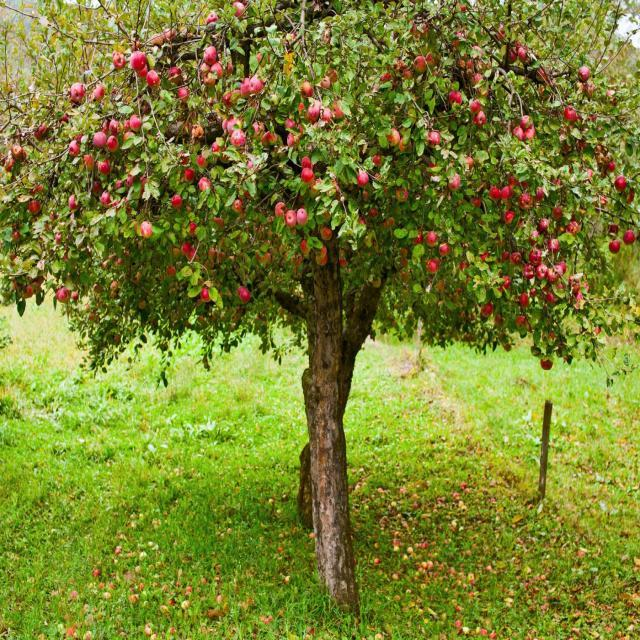Tree: (1, 1, 636, 621)
